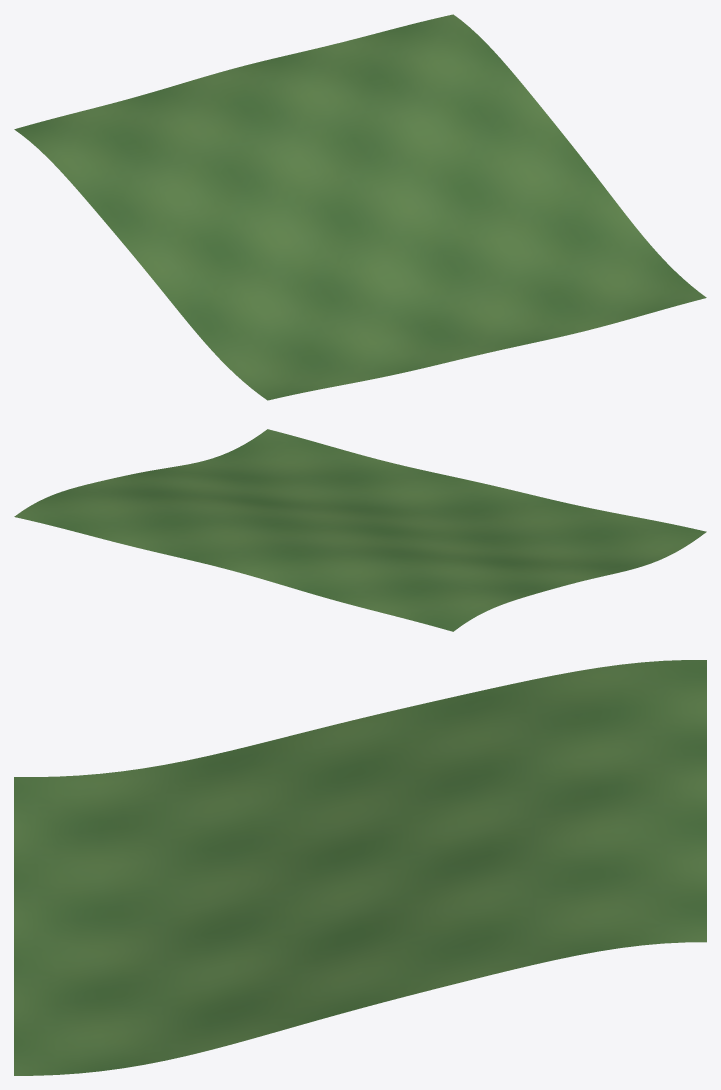
File: chunk_2_0.glb
The picture shows the model from 3 angles, top to bottom: view 1: azimuth 30°, elevation 25°; view 2: azimuth 150°, elevation 25°; view 3: azimuth 270°, elevation 25°; orthographic projection. The views are drawn at different scales.
Size of the model in its own units: 512 by 113 by 512.
